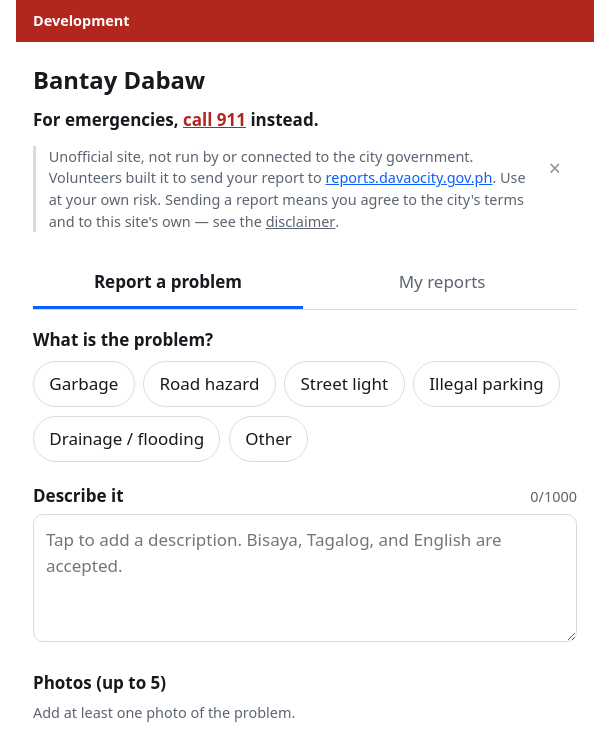
Test: opening one report › draws the waiting light while the city is asked what happened
Click the tab "My reports".
click(442, 283)  # box [307,258,577,309]
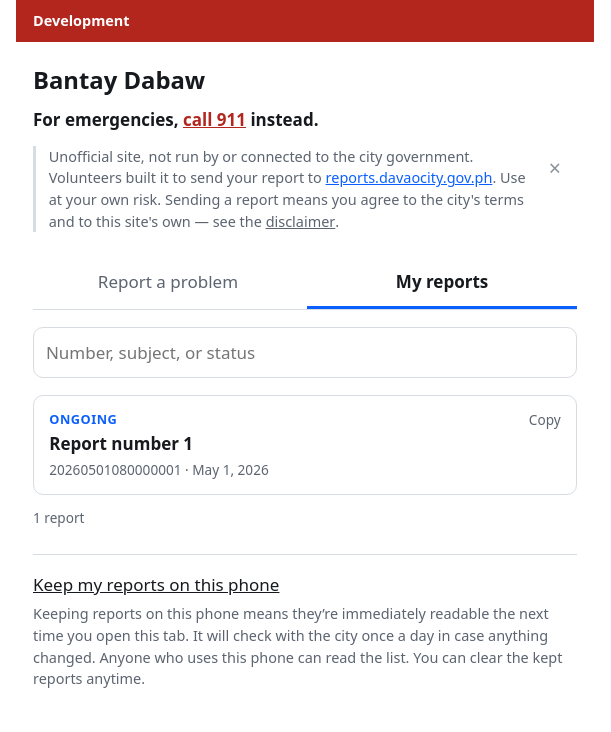
Click the button with class "reporthead".
click(83, 419)  # box [34,396,520,494]
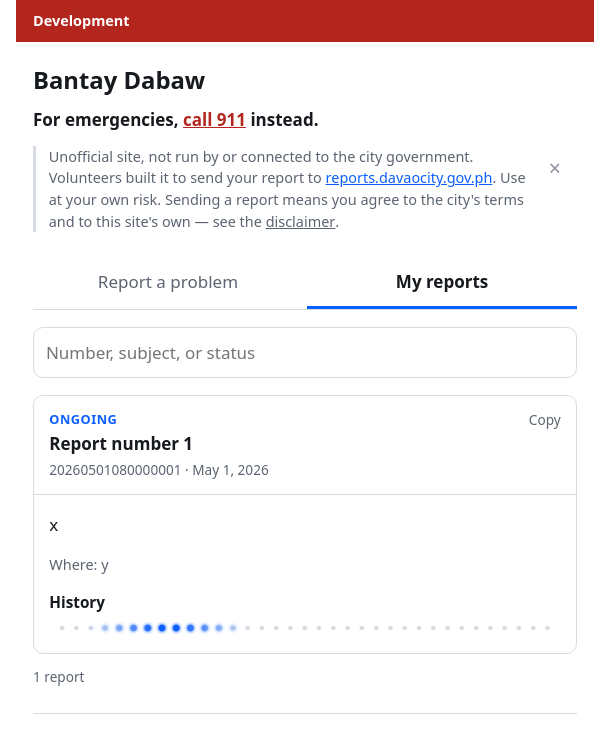
Expected: the heading with class "historyhead" reads "History", [49,592,105,612]
